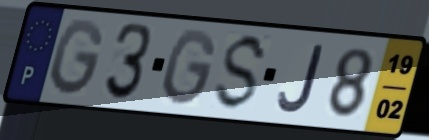3: (103, 21, 154, 104)
8: (325, 46, 378, 120)
G: (48, 16, 107, 99), (160, 27, 219, 110)
J: (276, 43, 326, 115)
S: (210, 32, 271, 115)
